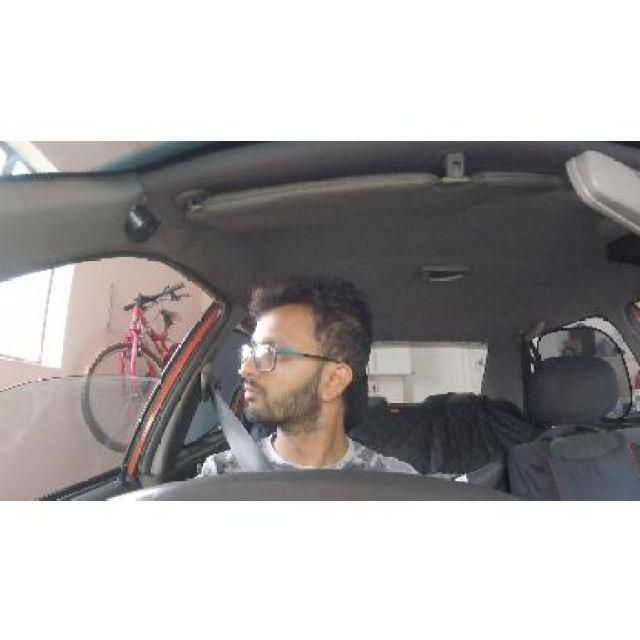LeftRight: (222, 281, 374, 434)
